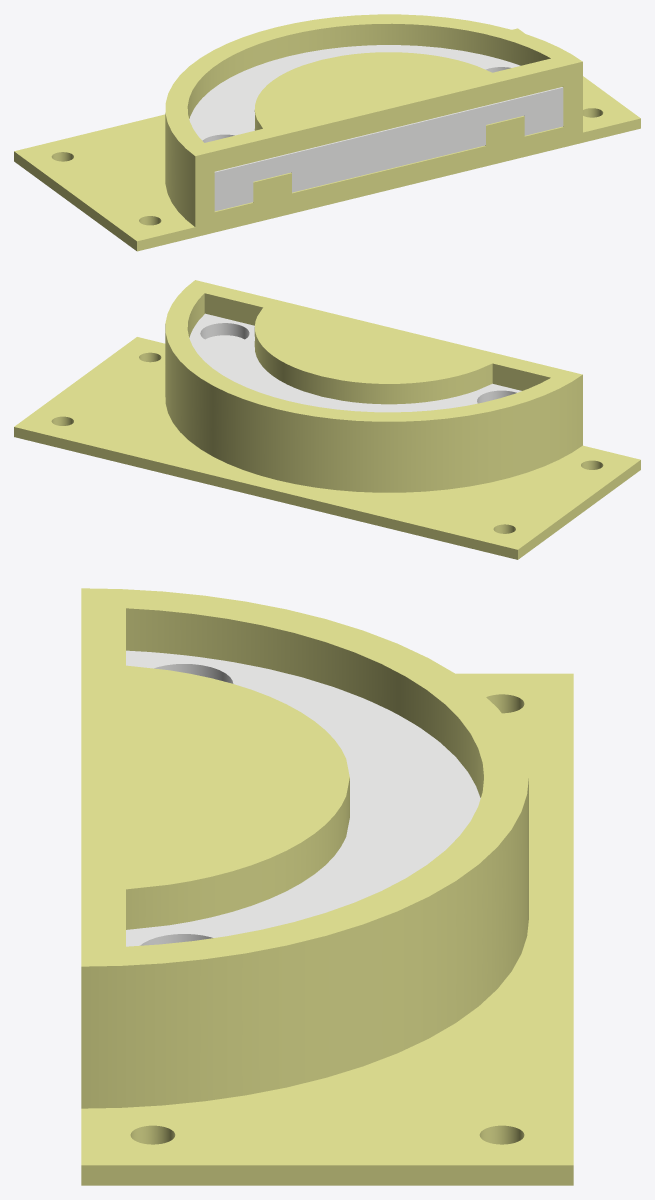
The picture shows the model from 3 angles, top to bottom: view 1: azimuth 30°, elevation 25°; view 2: azimuth 150°, elevation 25°; view 3: azimuth 270°, elevation 25°; orthographic projection. The views are drawn at different scales.
Visible parts, largest first — view 1: Top (3).001, Bawah (3).001, Tengah (3).001; view 2: Bawah (3).001, Top (3).001, Tengah (3).001; view 3: Top (3).001, Bawah (3).001, Tengah (3).001.
Part boxes in pixels (left/top/right/bottom): Top (3).001: left=165, top=14, right=582, bottom=196; Bawah (3).001: left=14, top=28, right=640, bottom=251; Tengah (3).001: left=189, top=45, right=563, bottom=211; Bawah (3).001: left=14, top=337, right=640, bottom=559; Top (3).001: left=165, top=280, right=582, bottom=462; Tengah (3).001: left=189, top=313, right=521, bottom=412; Top (3).001: left=81, top=588, right=528, bottom=1047; Bawah (3).001: left=81, top=673, right=573, bottom=1185; Tengah (3).001: left=126, top=650, right=480, bottom=946.
Bounding box in the file's own units: 0.8301 × 0.1277 × 0.3512.
